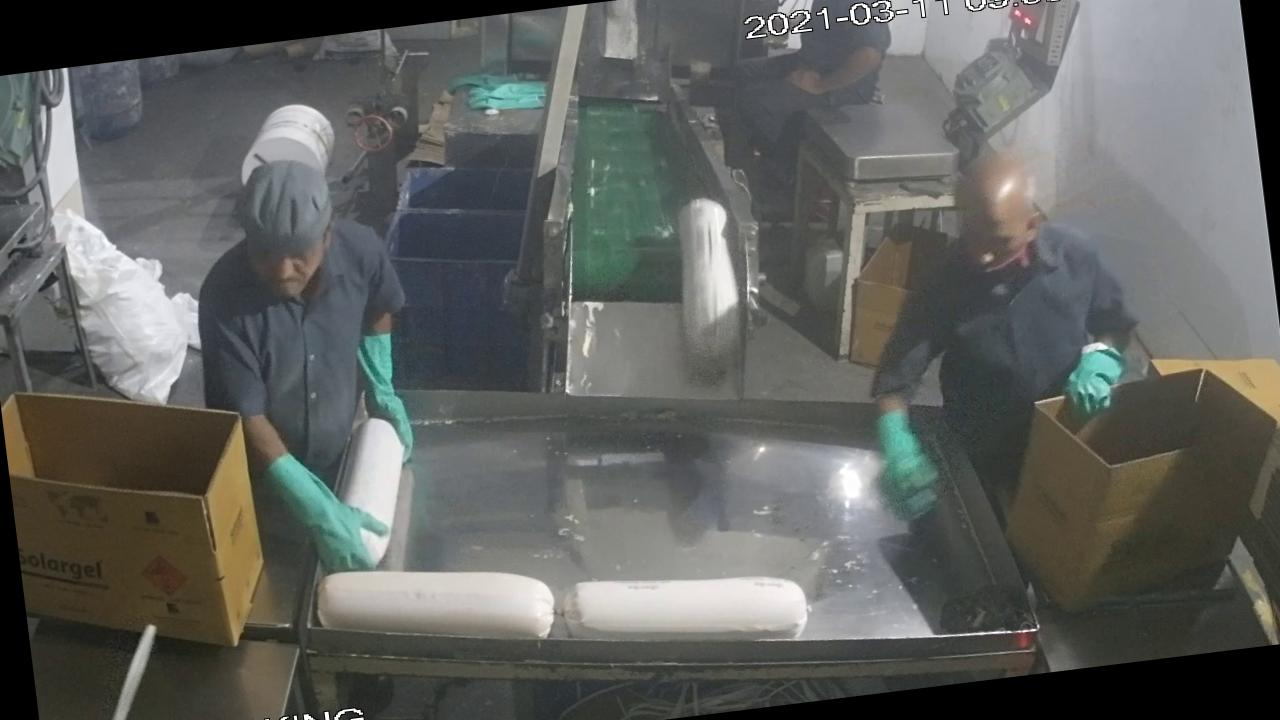Gloves: (249, 432, 392, 589), (862, 382, 962, 545), (342, 320, 435, 474), (1056, 320, 1139, 437)
No-gloves: (780, 39, 891, 103)
